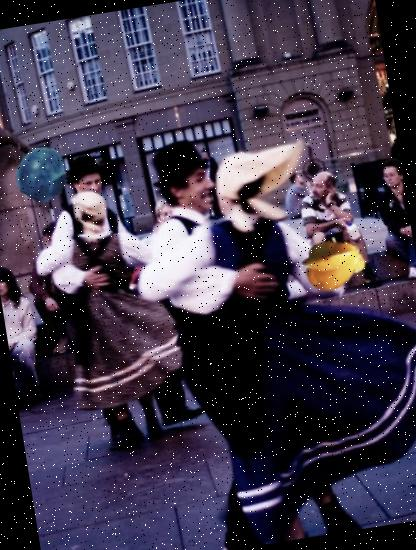Carambula: (296, 226, 372, 302)
Huckleberry: (13, 143, 74, 206)
